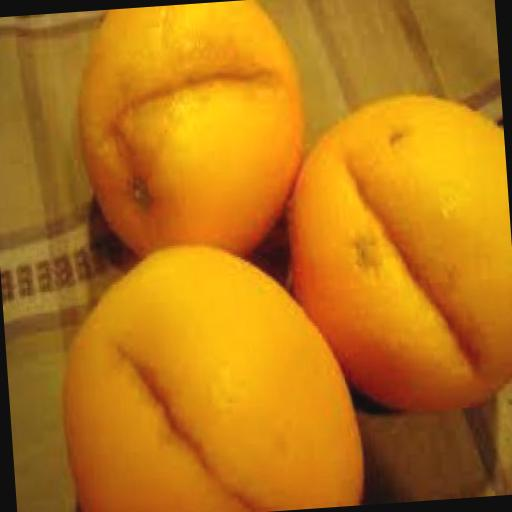biodegradable: (49, 228, 366, 512), (275, 83, 512, 423), (67, 0, 308, 263)
